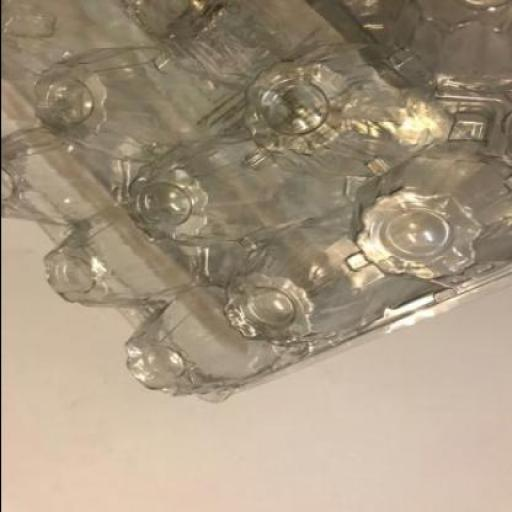plastic: (1, 0, 511, 405)
